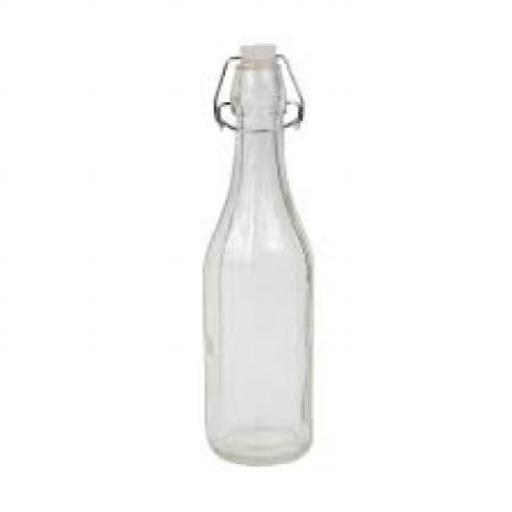glass: (202, 59, 310, 464)
plastic: (236, 43, 274, 62)
